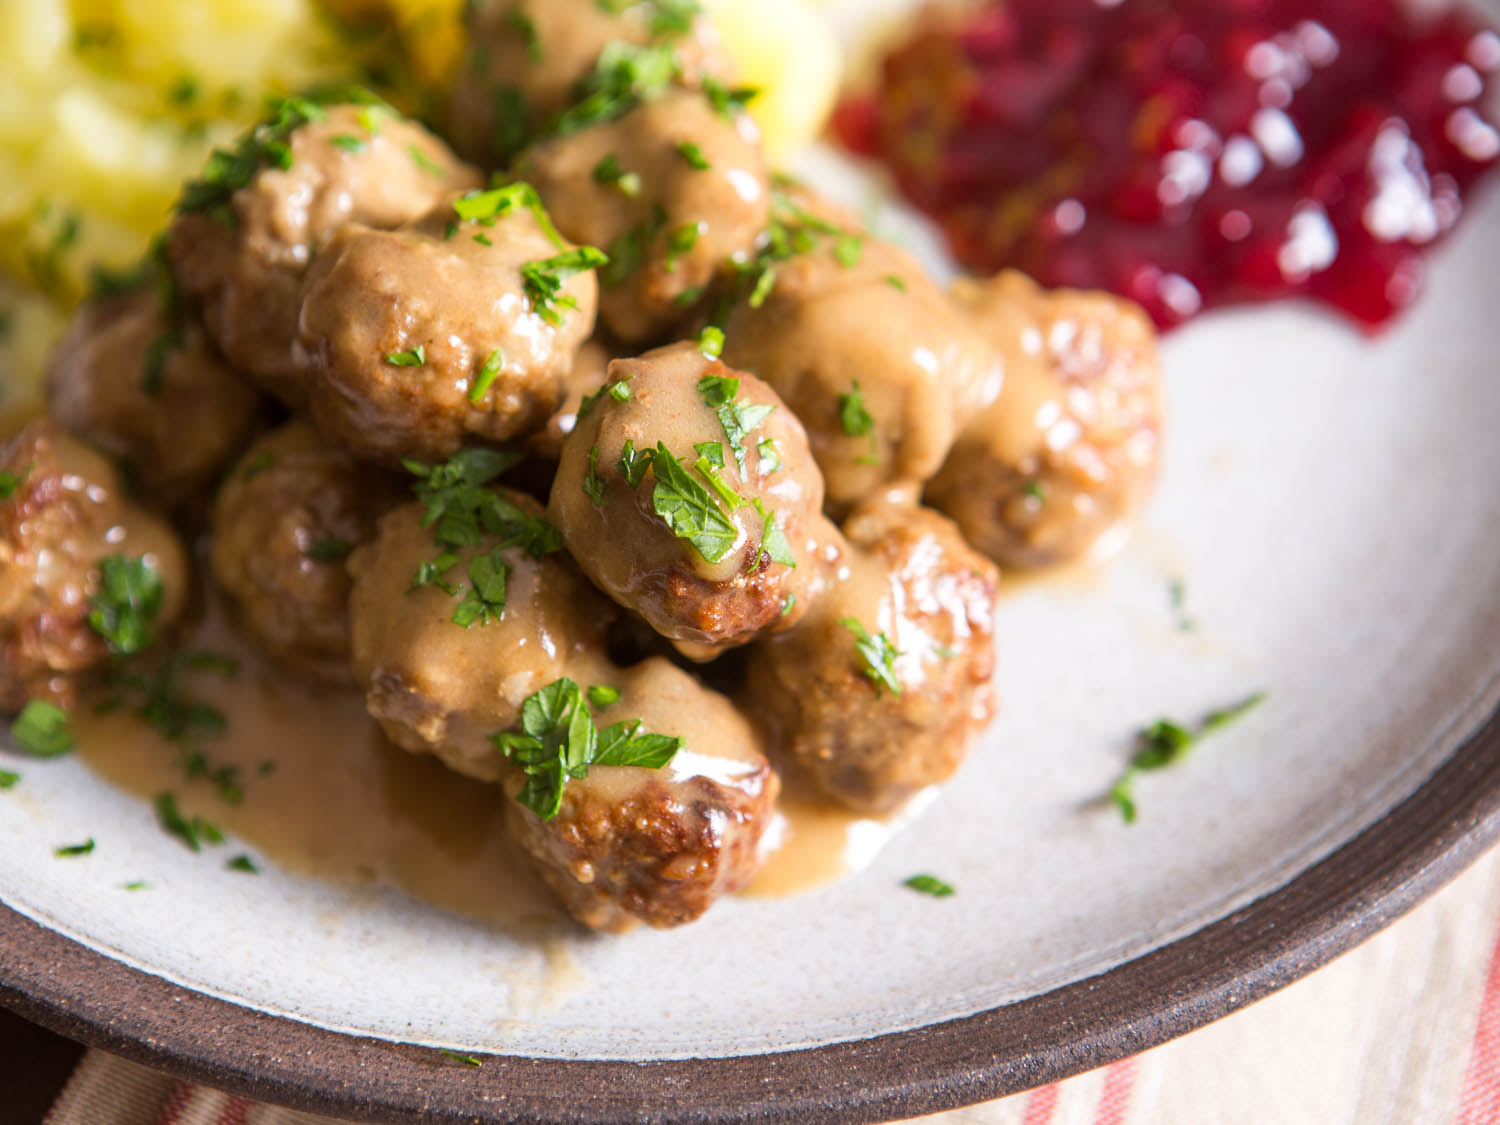boiled potatoes: (17, 95, 1096, 865)
